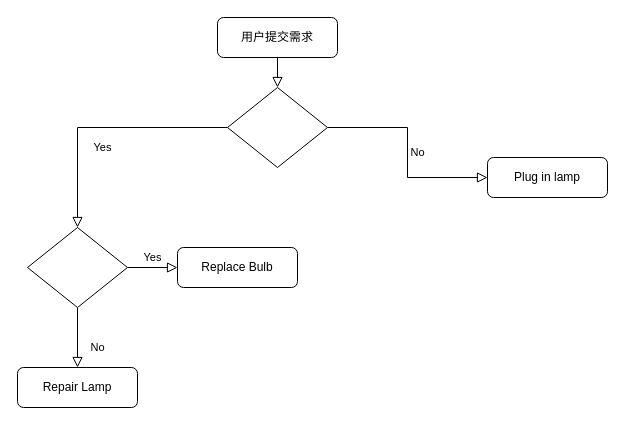
Some shapes in this 625 by 425 pixel diagram are drawn without their labels. Each missing label, with the box of its shape:
Bulb burned out?: (26, 226, 128, 308)
Lamp plugged in?: (226, 86, 328, 168)
